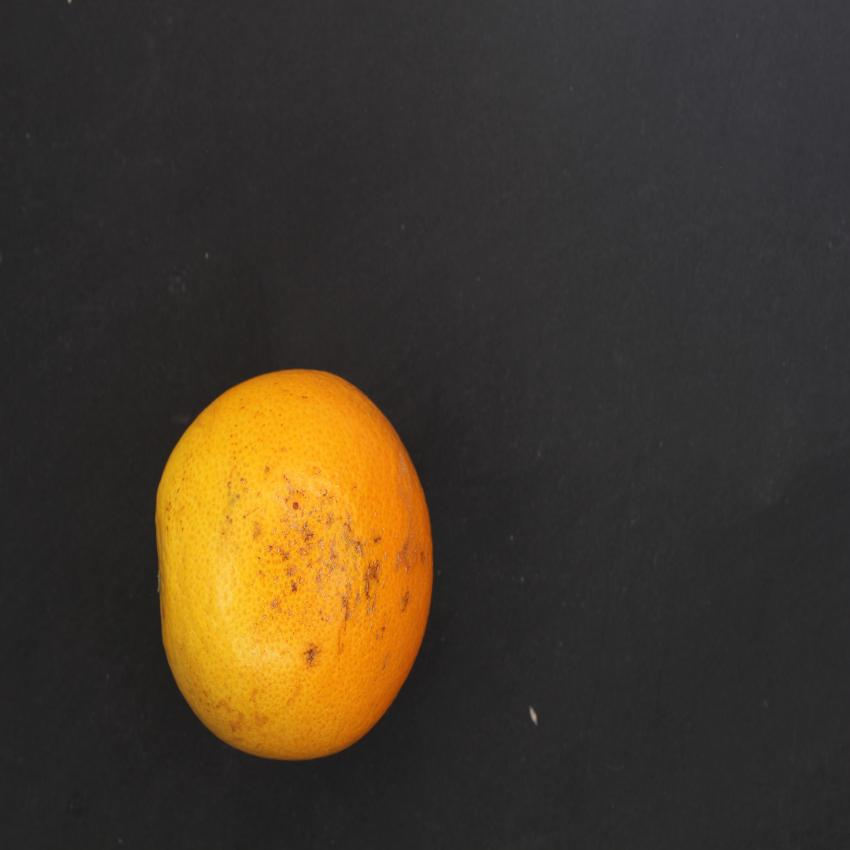Buen estado: (150, 361, 462, 768)
